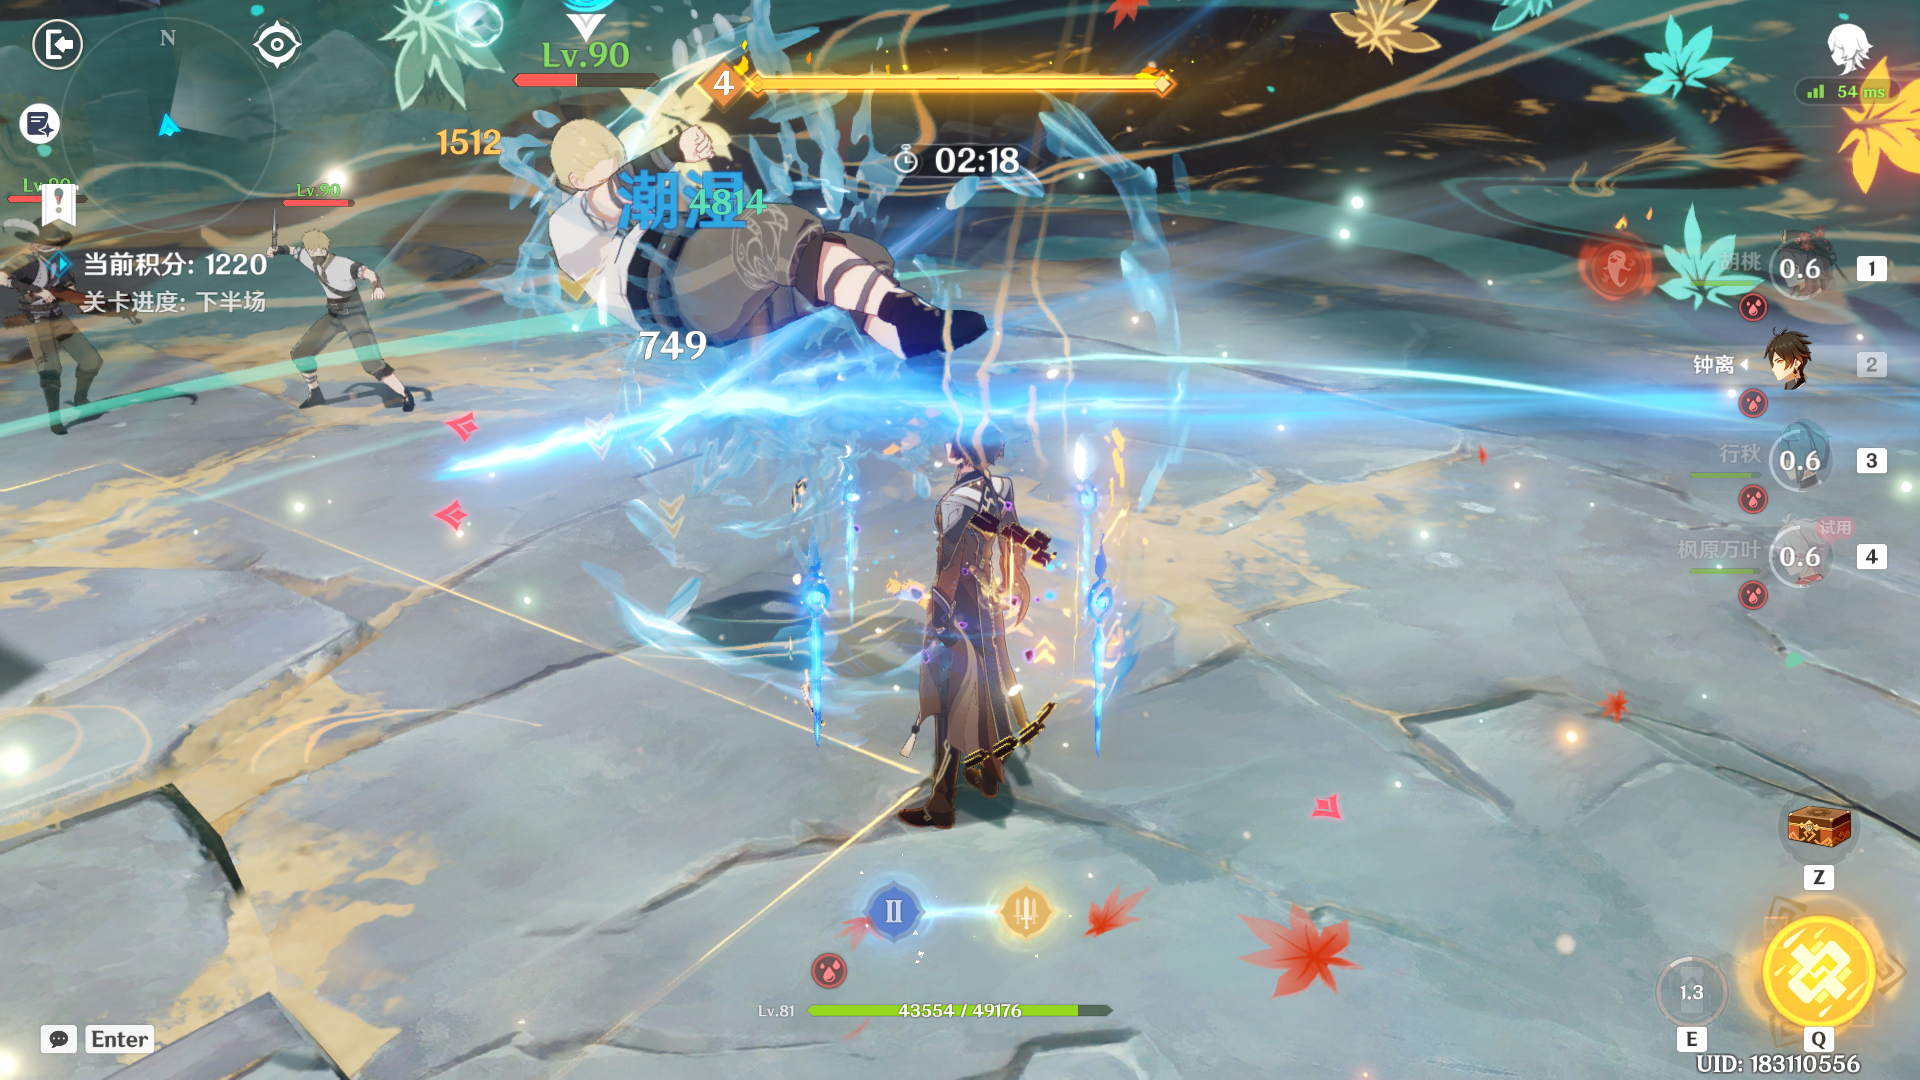character: (837, 427, 1106, 856)
robber: (484, 73, 976, 396), (247, 193, 447, 431)
